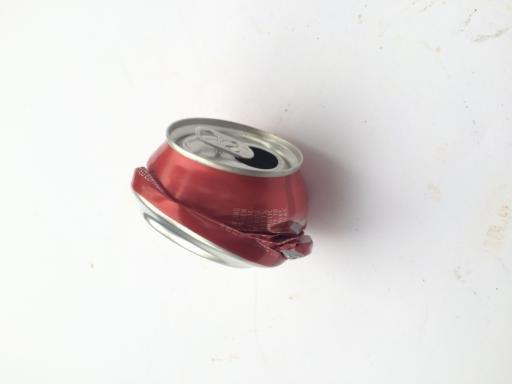kaleng: (129, 118, 314, 267)
